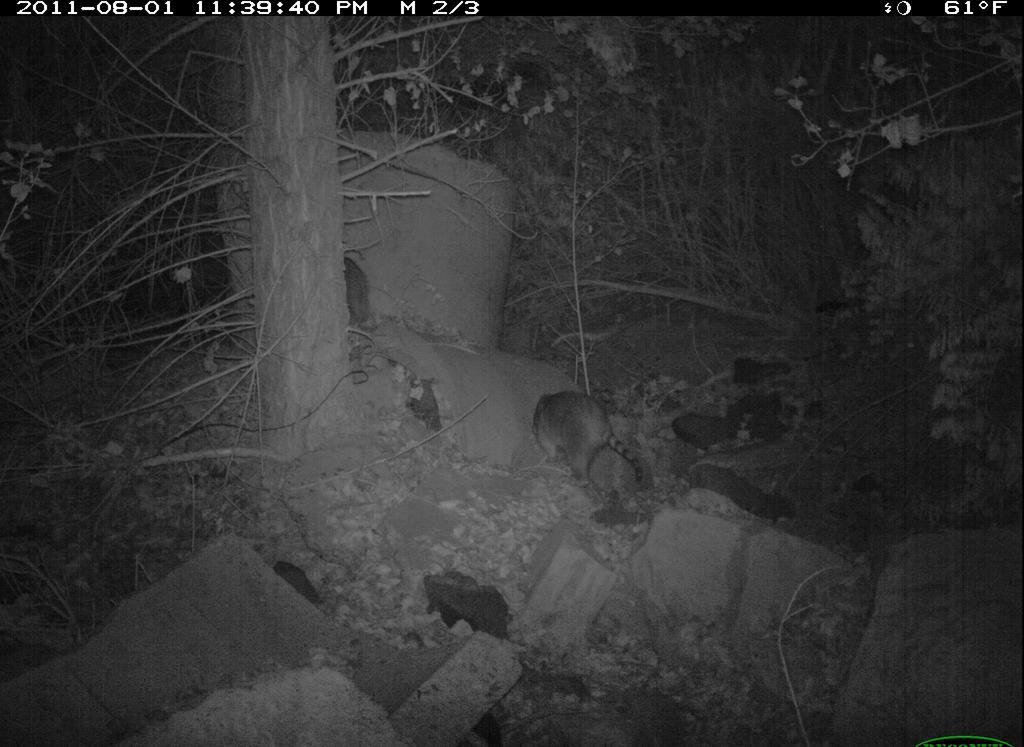raccoon: (532, 385, 649, 492)
